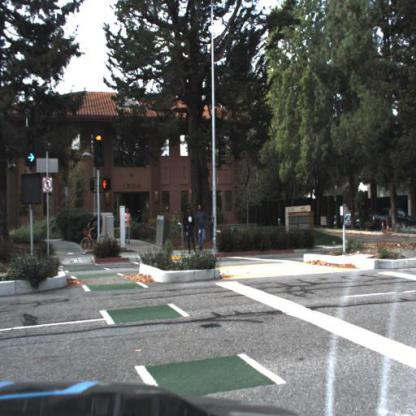biker: (82, 208, 107, 257)
car: (371, 206, 416, 239), (344, 213, 357, 229)
pedestrian: (197, 199, 217, 255), (195, 203, 215, 254), (184, 205, 196, 255), (185, 203, 195, 256), (124, 207, 132, 245)
